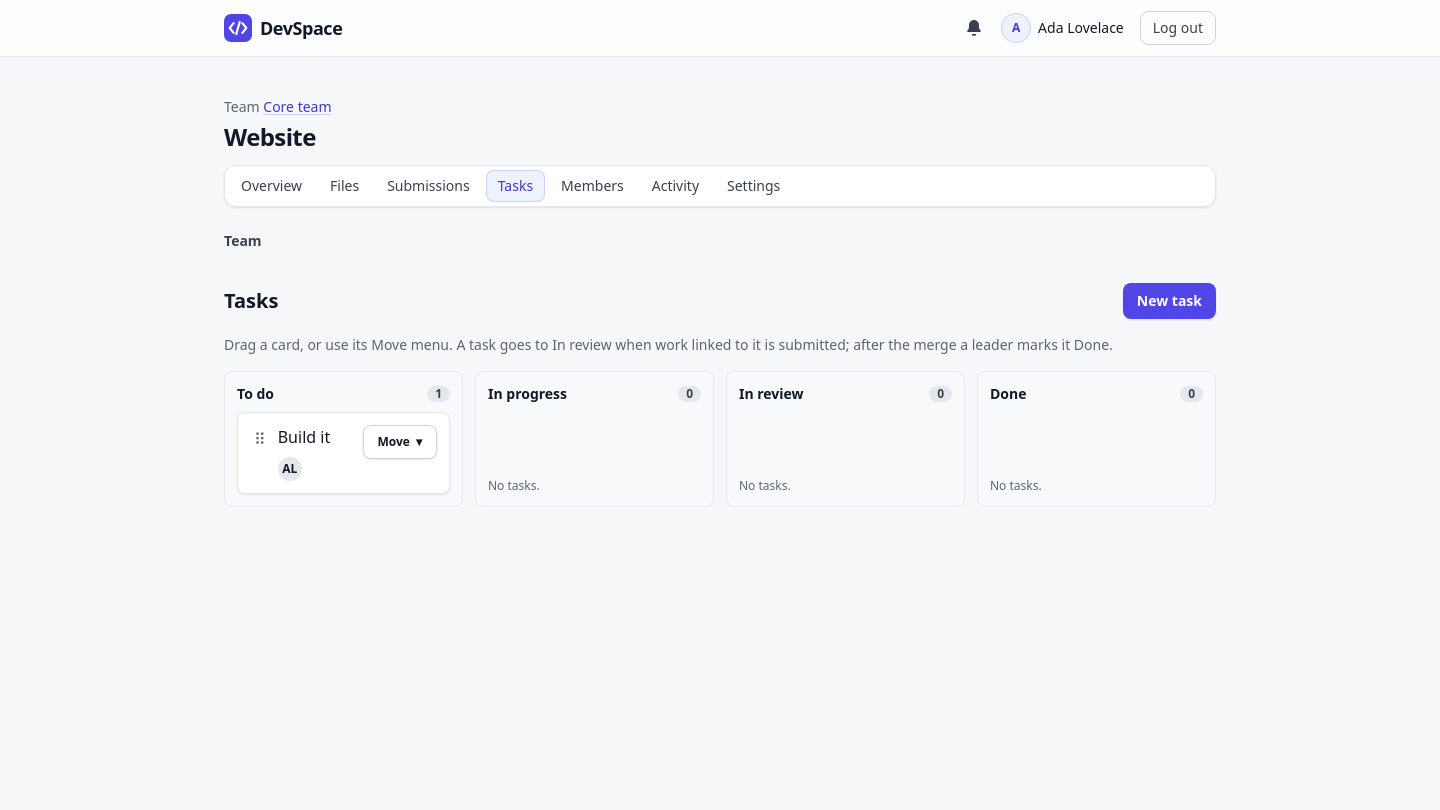
Scenario: Tasks board › snaps a refused move back and says why
Click the button with aria-label "Move Build it".
click(400, 442)  # box [362,425,437,459]
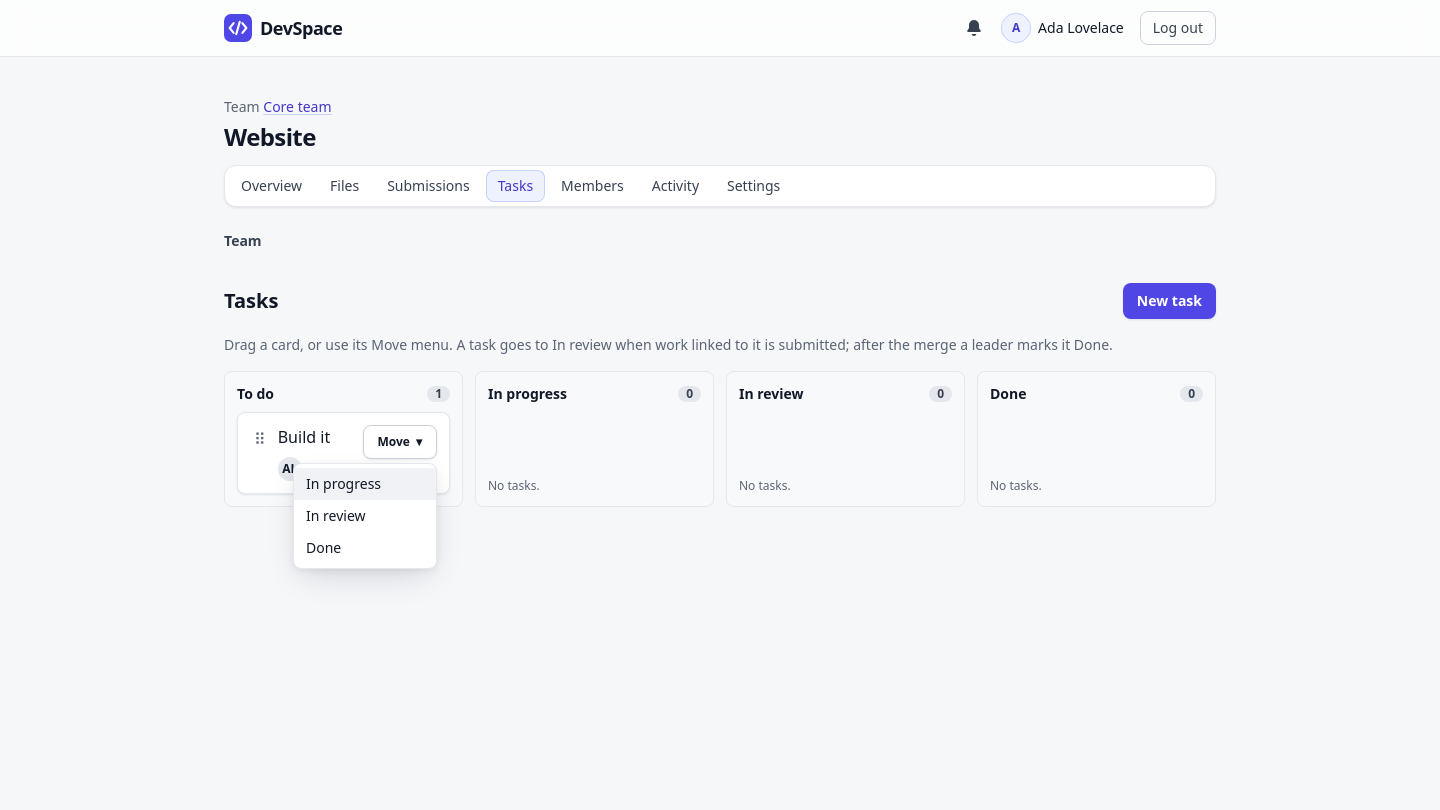
expect the menu items read "In progress", "In review", "Done", in this order: met
Click the menu item "Done".
click(365, 548)  # box [294,532,436,564]
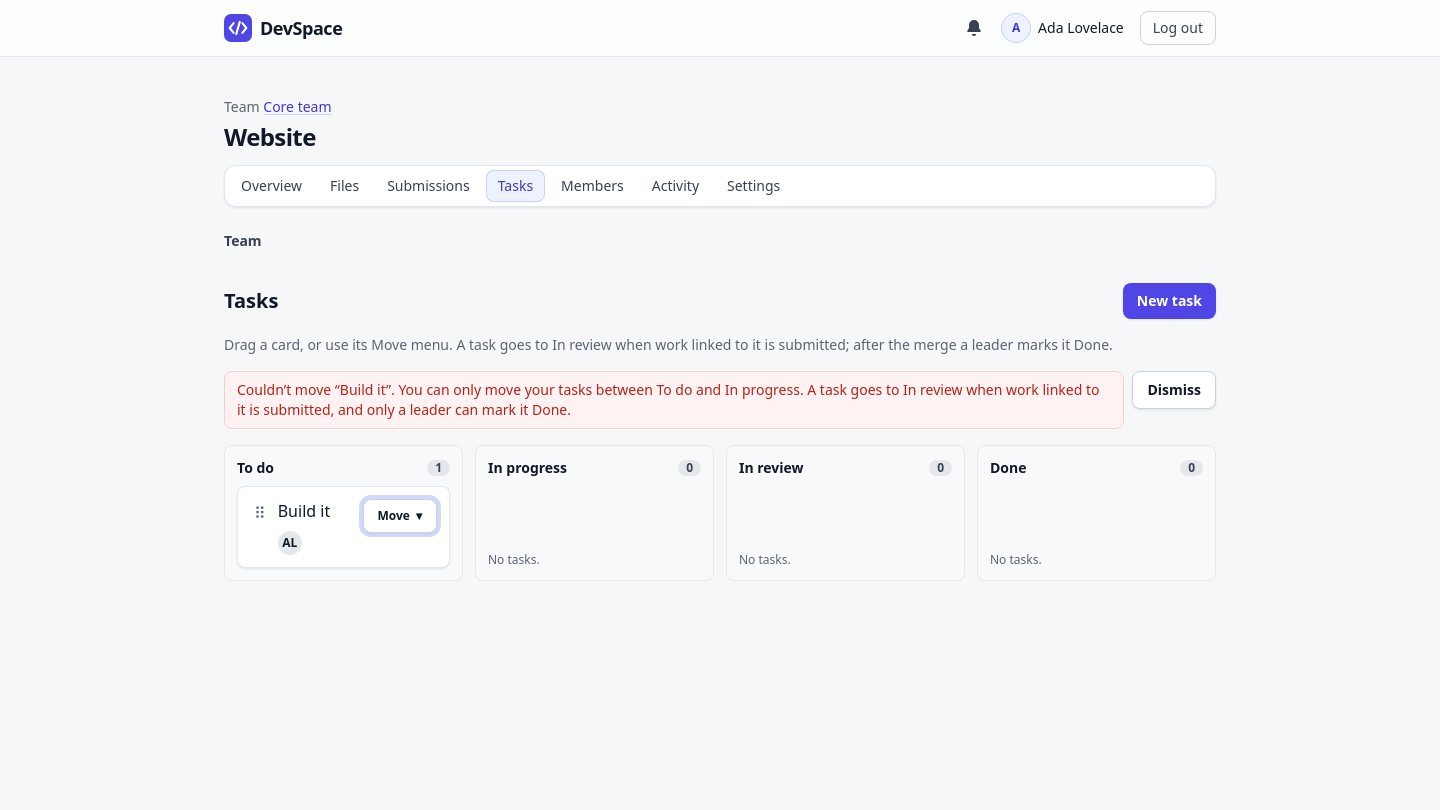
expect the list item shows "Build it": met, box [278,499,354,523]
expect the message shows "Couldn’t move “Build it”. You can only move your tasks between To do and In progress.": met, box [237,380,1100,419]
